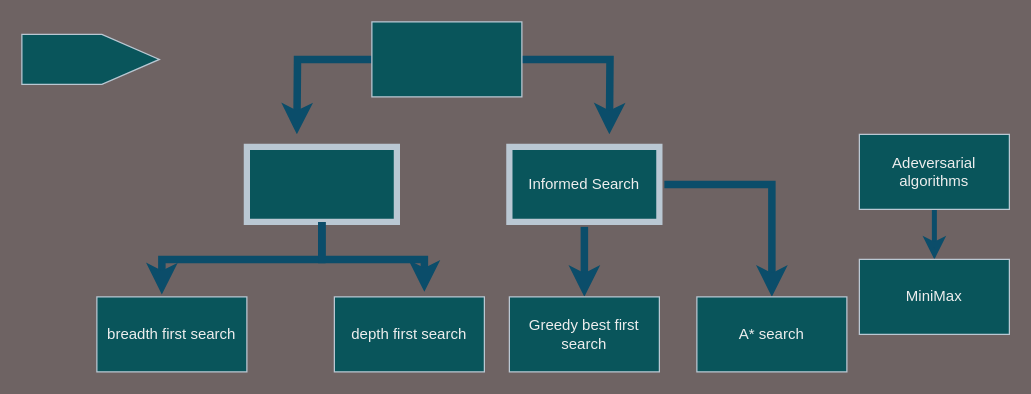
Image size: 1031x394. Some labels were removed from this diagram. The centre of each missing label's shape, as x and y in pixels:
Phucking borring bc: the point at 90,58
Search: the point at 446,59
Uniformed search: the point at 321,183
